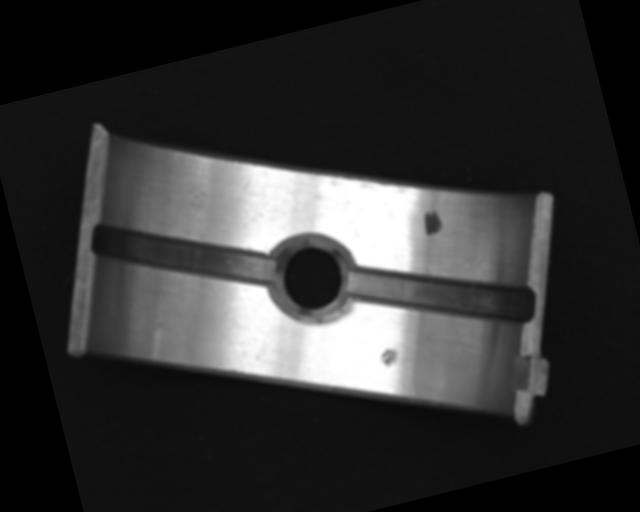blot: (419, 208, 445, 238)
bruise: (378, 345, 402, 369)
gap: (343, 225, 539, 363), (87, 186, 283, 323)
hole: (267, 232, 359, 330)
